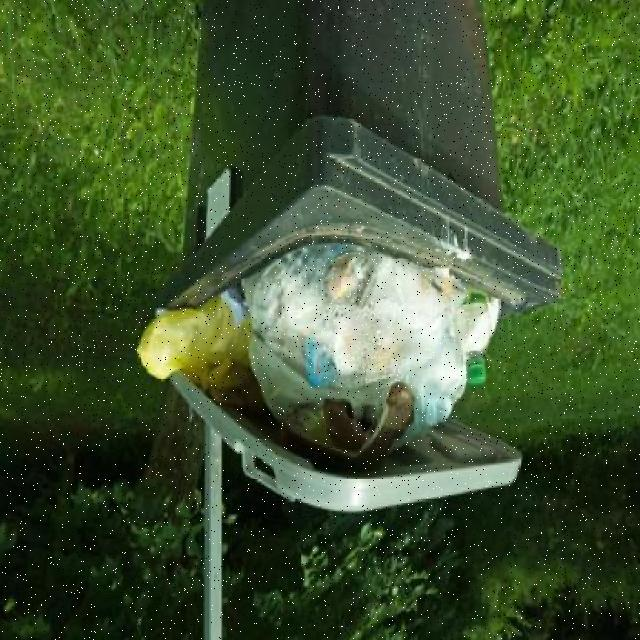garbage container: (147, 3, 556, 342)
